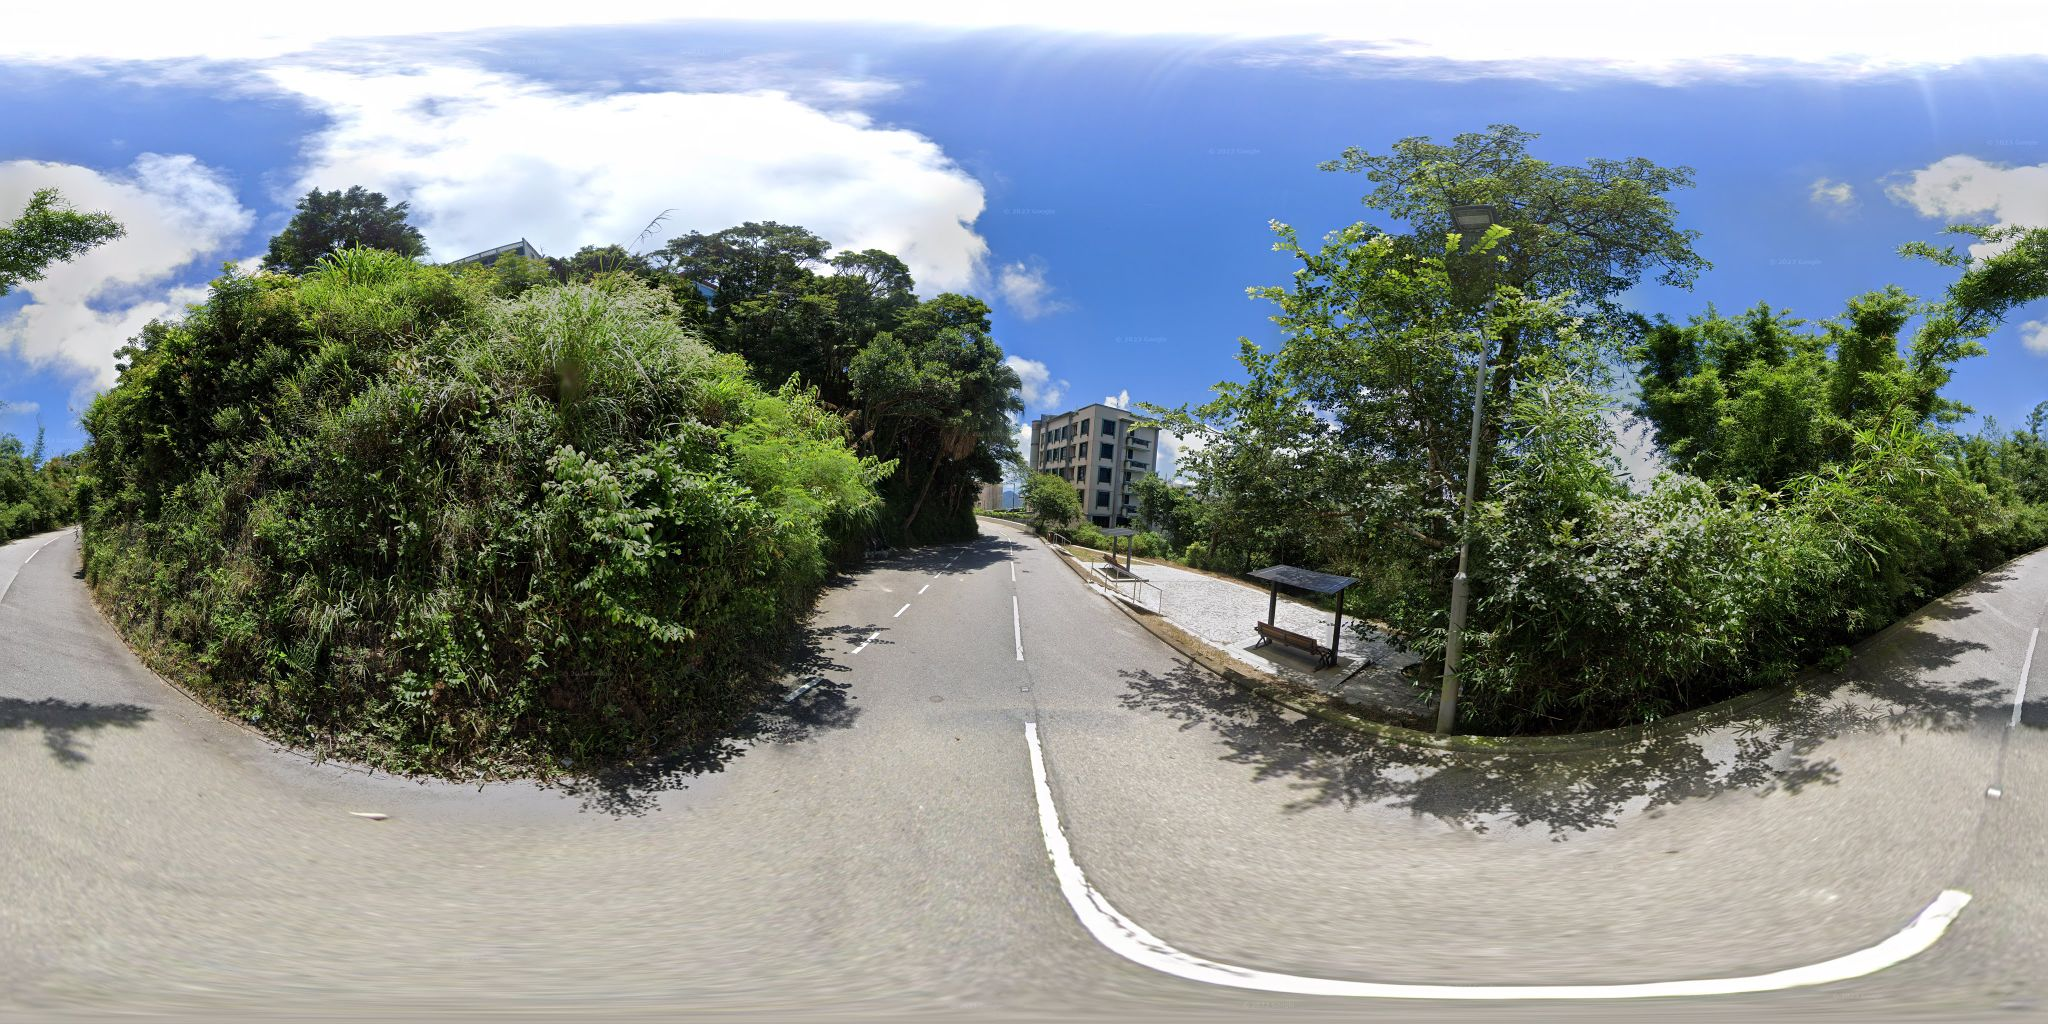SL: (1439, 199, 1509, 295)
